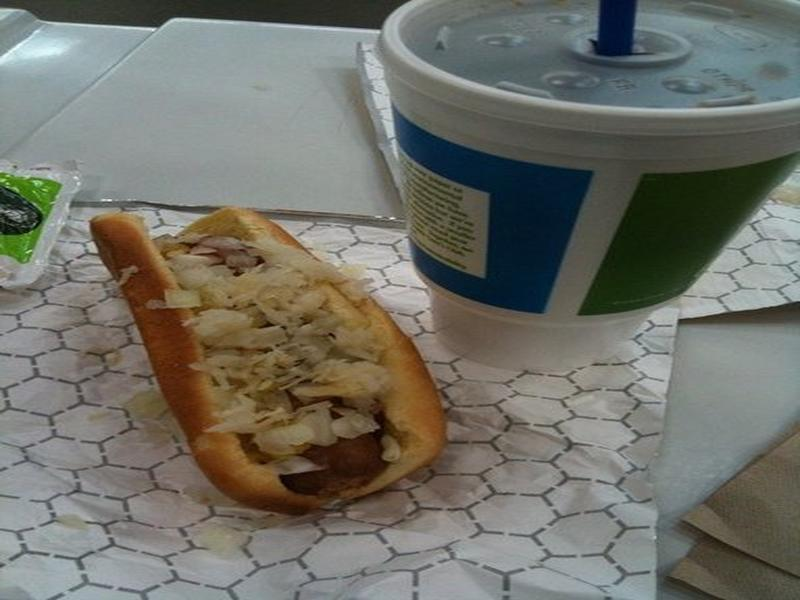hot_dog: (78, 135, 498, 568)
